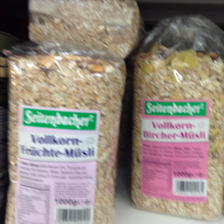cereal: (7, 56, 126, 222), (133, 52, 223, 220)
